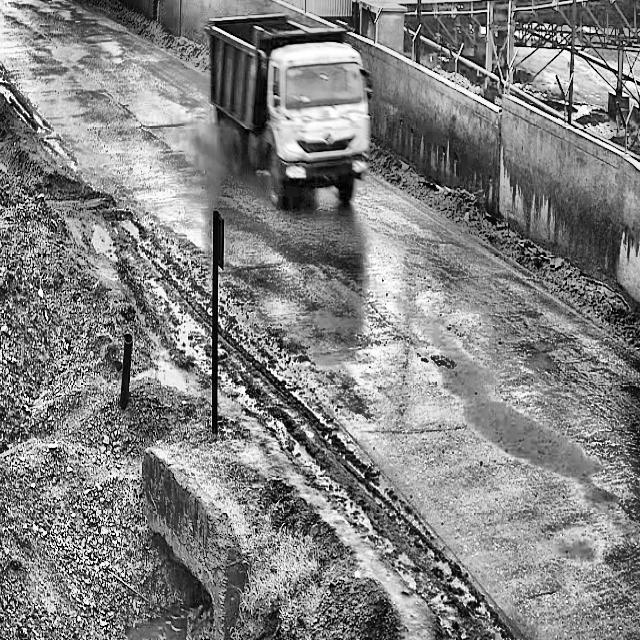dump_truck: (204, 0, 372, 223)
